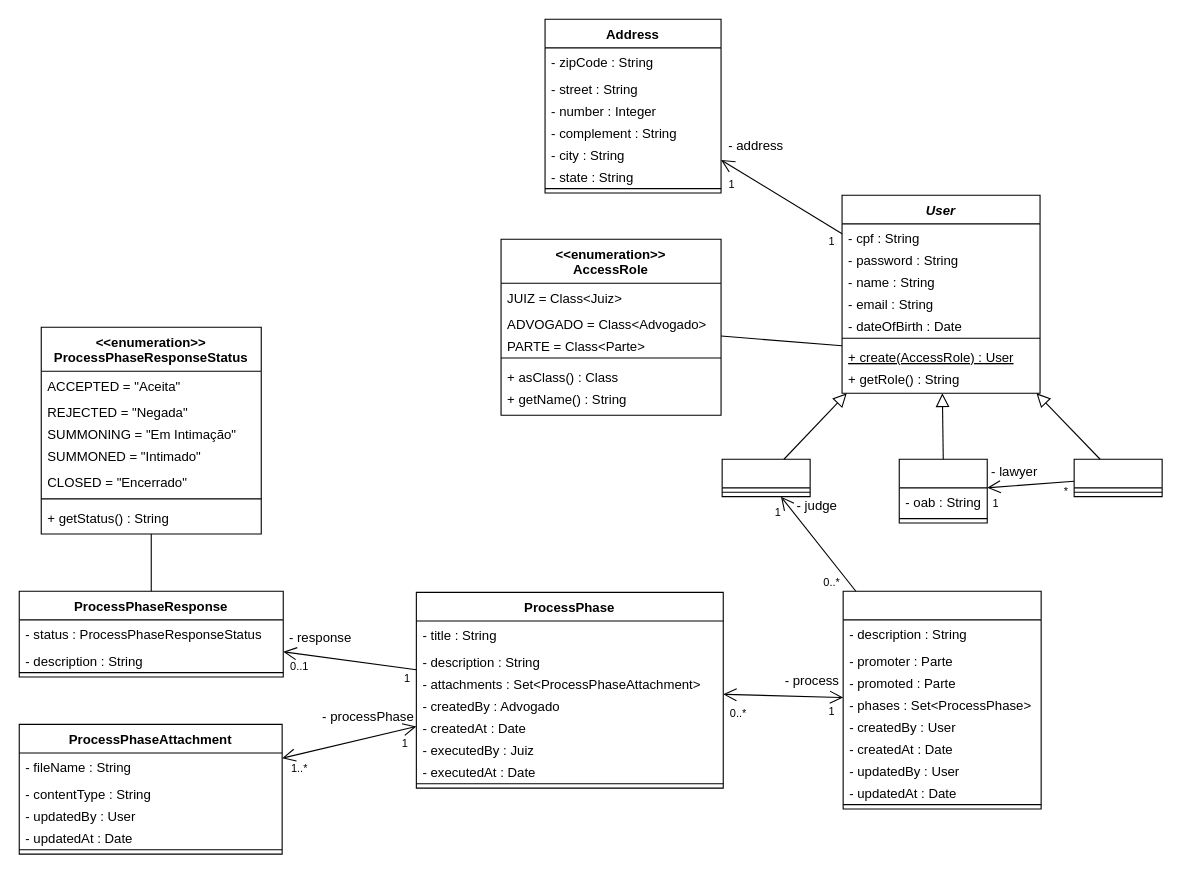
This 1181x873 diagram has some shape labels left out. Here are the shapes that lost their labels. From the top down, the box of each, then its label:
(721, 458, 810, 497): Juiz
(898, 458, 987, 523): Advogado
(1073, 458, 1162, 497): Parte
(842, 590, 1041, 809): Process
